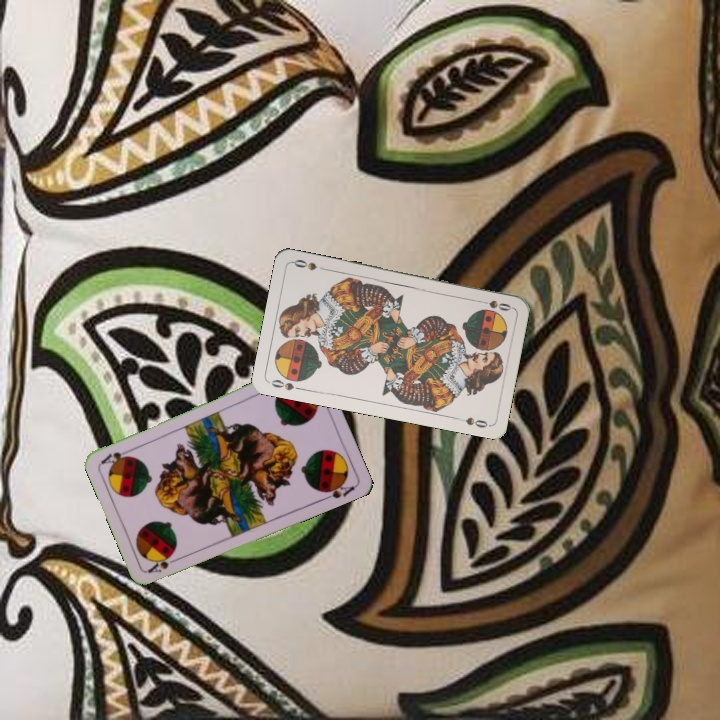SA: (144, 550, 183, 575)
SO: (474, 296, 514, 314), (267, 375, 306, 393)
